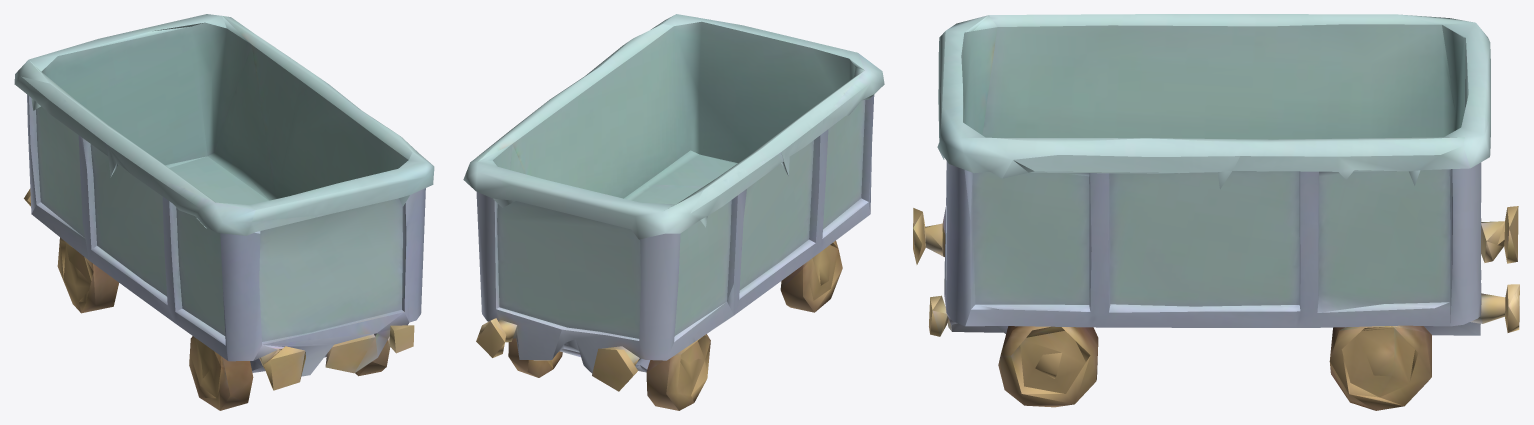
The model's file is m2ToyTrainWagon.glb.
3 renders of one model, left to right at view 1: azimuth 30°, elevation 25°; view 2: azimuth 150°, elevation 25°; view 3: azimuth 270°, elevation 25°, orthographic. The views are drawn at different scales.
Visible parts, largest first — view 1: model; view 2: model; view 3: model.
Boxes of the visible parts, x1,y1,x2,y2 form: model: (14, 14, 434, 410); model: (463, 14, 884, 410); model: (913, 14, 1519, 410).
Bounding box in the file's own units: 1.03 × 0.9864 × 1.88.
Materials: 1 (1 with a texture image).
